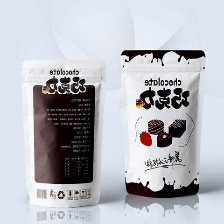snack: (15, 53, 112, 213), (115, 42, 211, 202)
